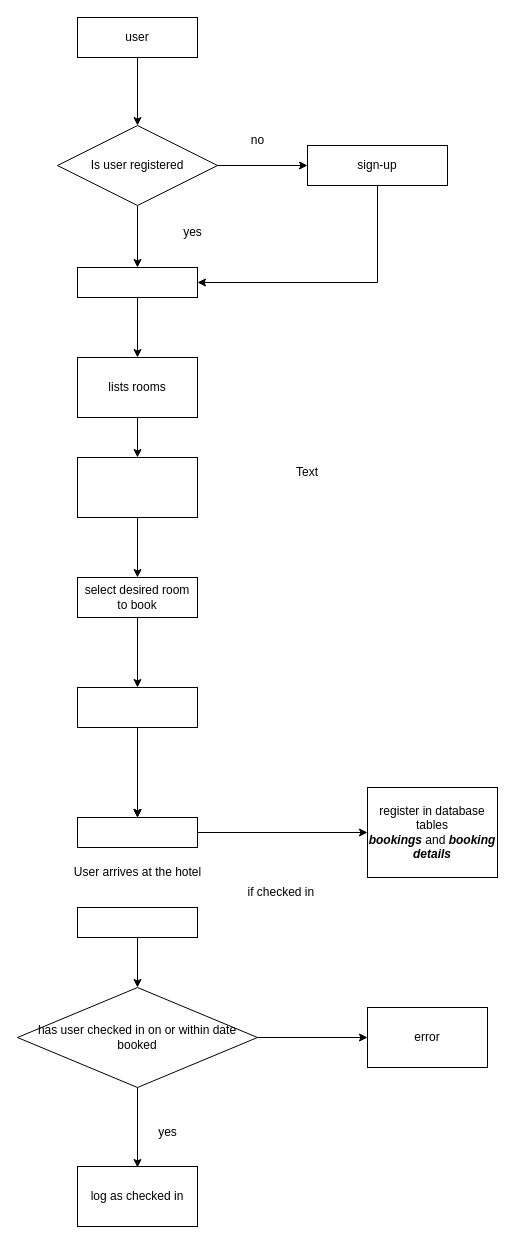
Some shapes in this 515 by 1244 pixel diagram are drawn without their labels. The centre of each missing label's shape, as x and y in pixels:
book room: the point at 137,832
check in: the point at 137,922
login: the point at 137,282
search for rooms based on desired dates and amenities: the point at 137,487
specify number of adults and children: the point at 137,707
